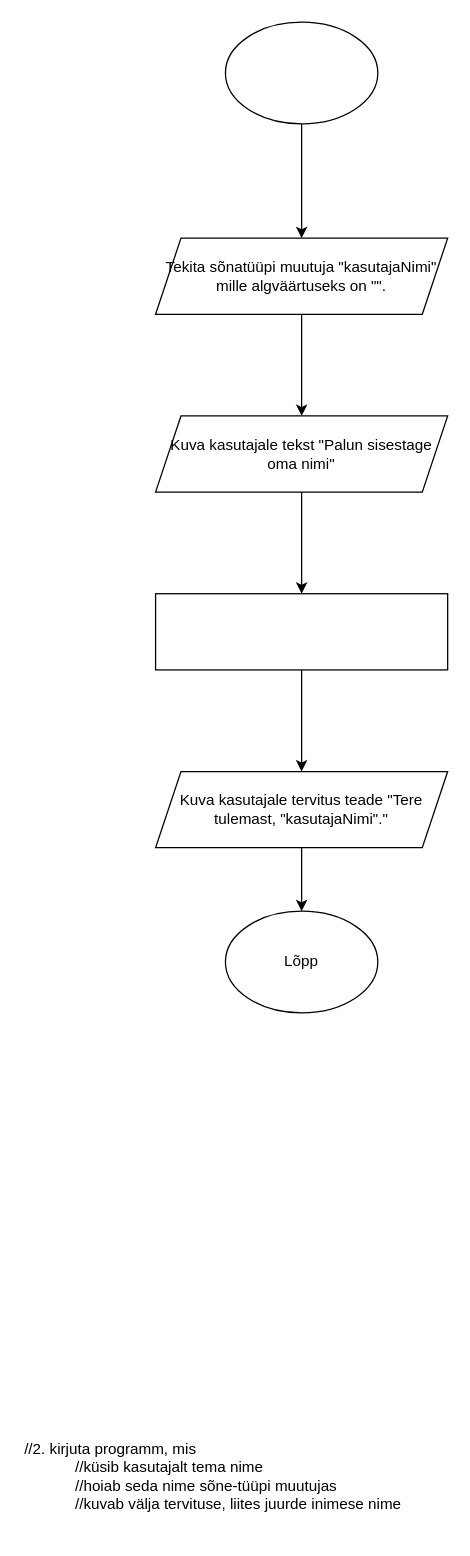
Image size: 470x1556. Some labels were removed from this diagram. Each missing label, with the box of its shape:
Algus: (224, 21, 378, 124)
Oota kasutaja vastust, mida omistatakse sõnatüüpi muutujasse "kasutajaNimi": (154, 592, 448, 670)
